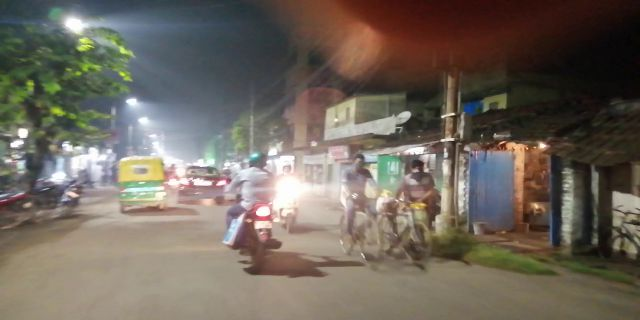Autorickshaw: (114, 156, 169, 211)
Car: (182, 166, 227, 204)
Cycle: (332, 153, 409, 280)
Motorbike: (235, 151, 290, 277)
